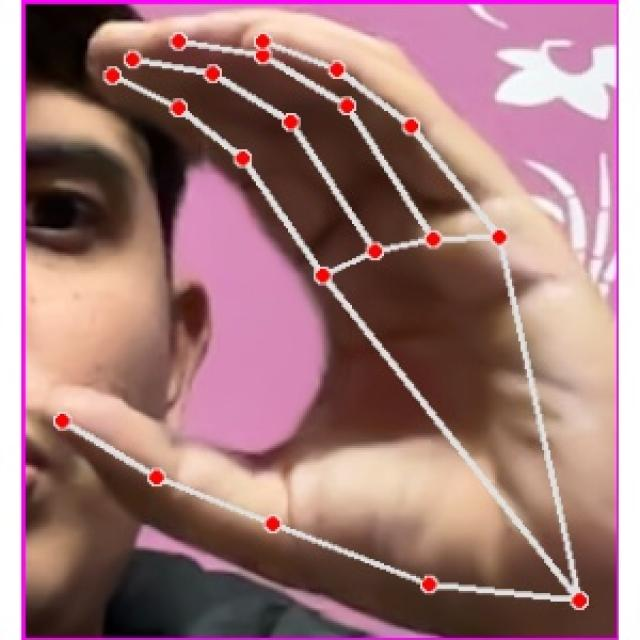C: (51, 15, 610, 640)
